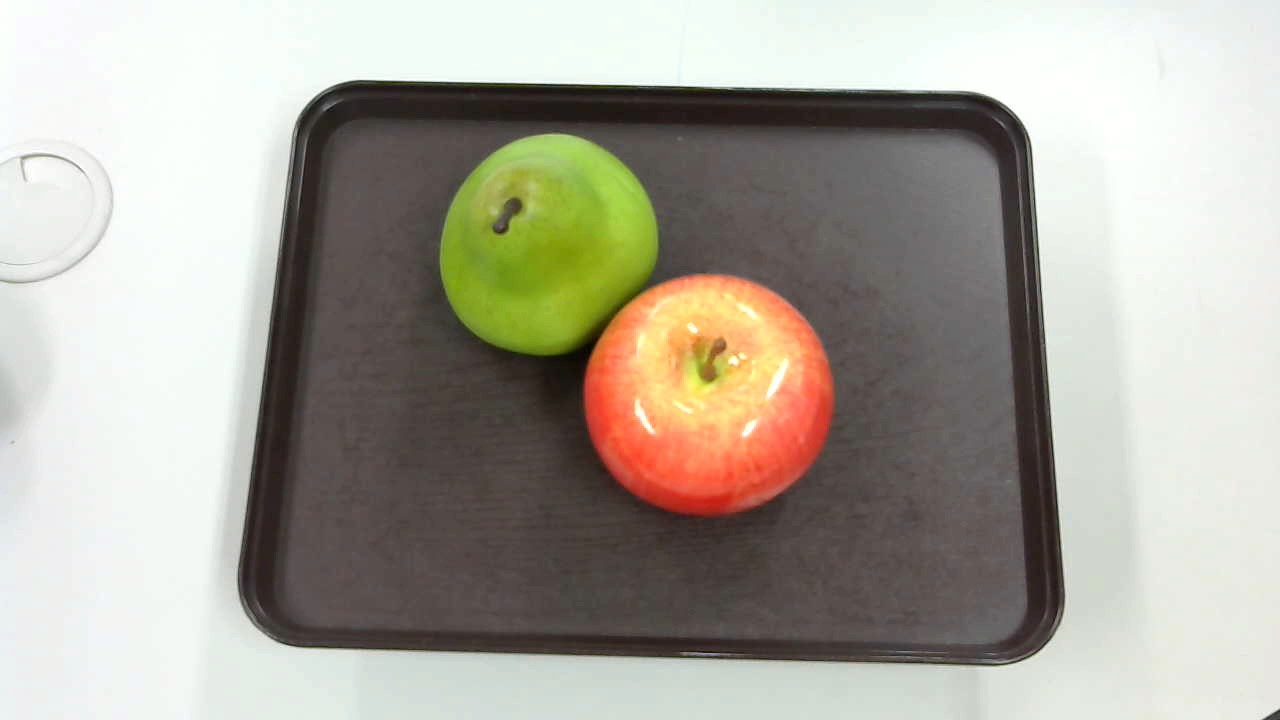green pear: (426, 125, 658, 363)
red apple: (580, 274, 836, 519)
